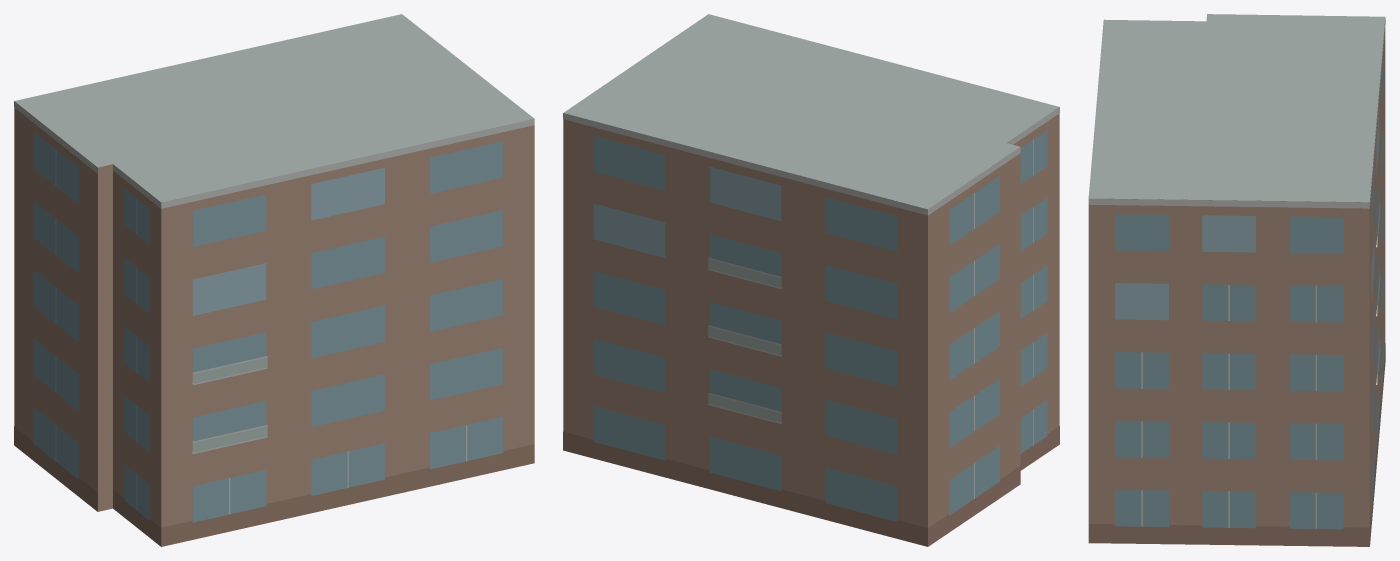
Rendered from survey-upis-32657652.glb.
The picture shows the model from 3 angles, left to right: view 1: azimuth 30°, elevation 25°; view 2: azimuth 150°, elevation 25°; view 3: azimuth 270°, elevation 25°; orthographic projection. The views are drawn at different scales.
Visible parts, largest first — view 1: survey-upis-32657652.tmp; view 2: survey-upis-32657652.tmp; view 3: survey-upis-32657652.tmp.
Boxes of the visible parts, box(x1,y1,x2,y2) form: survey-upis-32657652.tmp: box(14, 14, 534, 546); survey-upis-32657652.tmp: box(563, 14, 1059, 546); survey-upis-32657652.tmp: box(1088, 14, 1385, 546).
Size of the model in its own units: 15.53 by 13.25 by 10.36.
